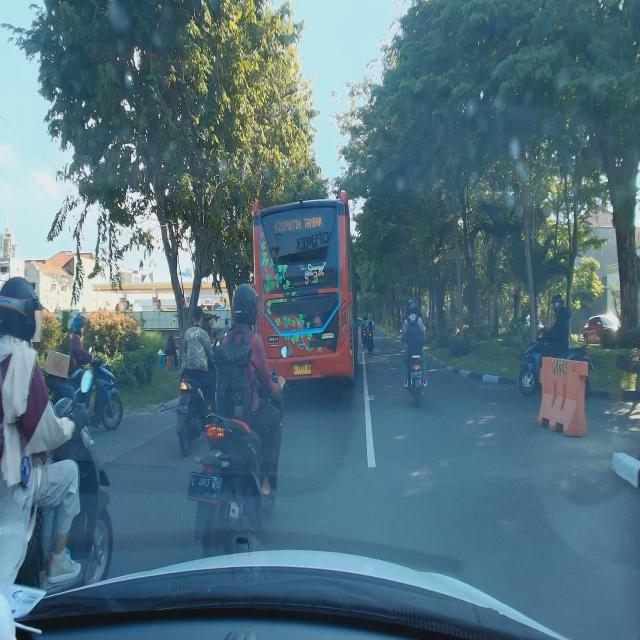bus: (251, 189, 359, 391)
license-plate: (293, 364, 312, 375)
